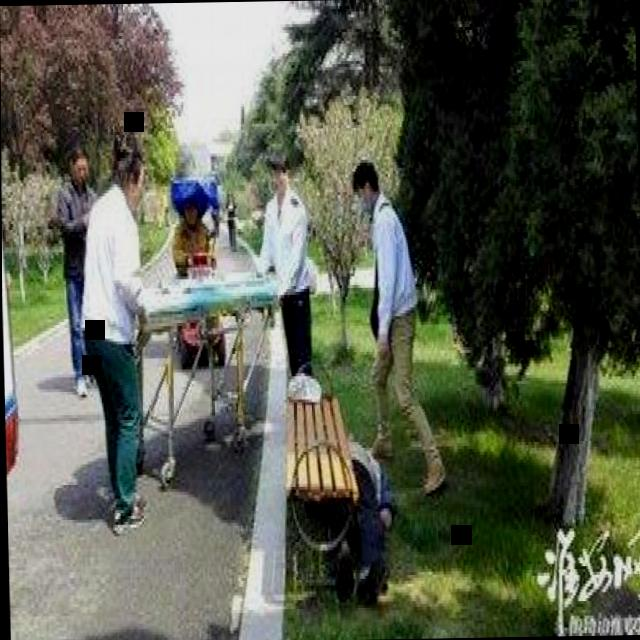Fall-Detected: (305, 403, 404, 608)
